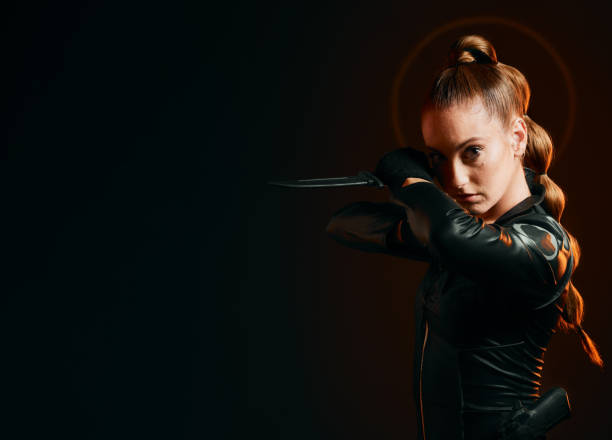knife: (262, 166, 389, 190)
